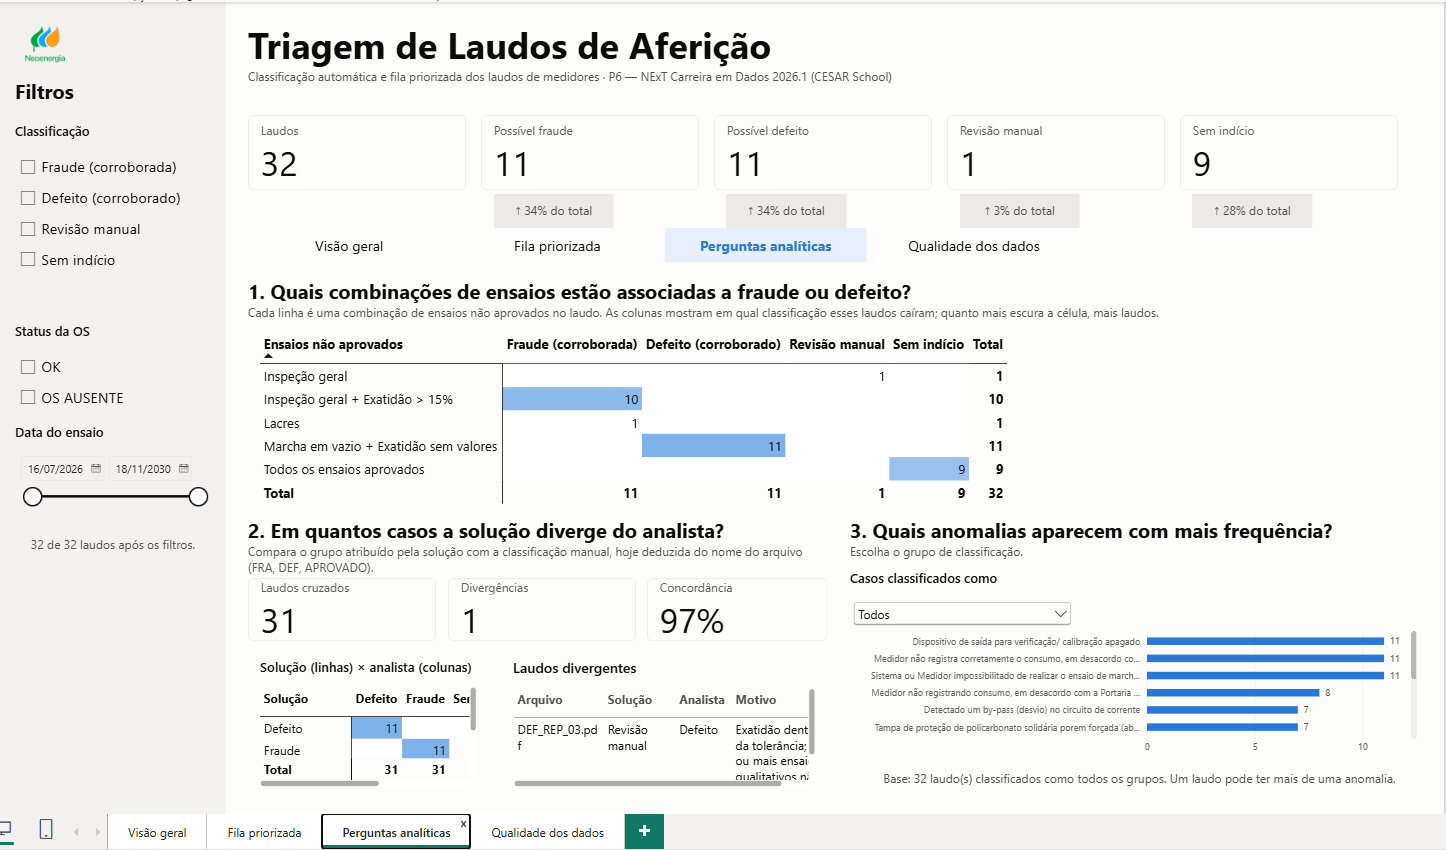

The page's visual inventory and layout, read from the dashboard file:
{"tool":"powerbi","page":{"name":"Perguntas analíticas","canvas":[1920,1080],"ordinal":2},"visuals":[{"type":"textbox","box":[0,0,300,1080],"z":0},{"type":"image","box":[24,20,72,72],"z":1000},{"type":"textbox","box":[20,100,260,50],"z":2000},{"type":"slicer","title":"Classificação","fields":{"Values":["public laudos.classificacao_curta"]},"box":[20,160,260,250],"z":3000},{"type":"slicer","title":"Status da OS","fields":{"Values":["public laudos.status_os"]},"box":[20,425,260,120],"z":4000},{"type":"slicer","title":"Data do ensaio","fields":{"Values":["public laudos.data_ensaio_dt"]},"box":[20,560,260,120],"z":5000},{"type":"card","fields":{"Values":["public laudos.Laudos filtrados"]},"box":[20,699.6,260.7,50.5],"z":6000},{"type":"textbox","box":[330,24,1570,120],"z":7000},{"type":"cardVisual","fields":{"Data":["public laudos.Total de laudos"]},"box":[330,150,290,100],"z":8000},{"type":"cardVisual","fields":{"Data":["public laudos.Laudos possível fraude"]},"box":[640,150,290,100],"z":9000},{"type":"card","fields":{"Values":["public laudos.Pill fraude"]},"box":[656.5,255.3,159,45.2],"z":10000},{"type":"cardVisual","fields":{"Data":["public laudos.Laudos possível defeito"]},"box":[950,150,290,100],"z":11000},{"type":"card","fields":{"Values":["public laudos.Pill defeito"]},"box":[965.8,255.3,160.5,45.2],"z":12000},{"type":"cardVisual","fields":{"Data":["public laudos.Laudos revisão manual"]},"box":[1260,150,290,100],"z":13000},{"type":"card","fields":{"Values":["public laudos.Pill revisão"]},"box":[1276.6,255.3,159,45.2],"z":14000},{"type":"cardVisual","fields":{"Data":["public laudos.Laudos sem indício"]},"box":[1570,150,290,100],"z":15000},{"type":"card","fields":{"Values":["public laudos.Pill sem indício"]},"box":[1585.9,255.3,160.5,45.2],"z":16000},{"type":"pageNavigator","box":[330,300,1100,46],"z":17000},{"type":"textbox","box":[329.7,366.2,1569.8,68.6],"z":18000},{"type":"pivotTable","fields":{"Columns":["public laudos.classificacao_curta"],"Rows":["public laudos.perfil_ensaios"],"Values":["public laudos.Laudos nº"]},"box":[329.7,424.6,1569.8,259.7],"z":19000},{"type":"textbox","box":[329.7,684.3,770.3,81.7],"z":20000},{"type":"cardVisual","fields":{"Data":["public laudos.Laudos cruzados"]},"box":[330,765.7,250,84.3],"z":21000},{"type":"cardVisual","fields":{"Data":["public laudos.Divergências"]},"box":[595.7,765.7,250,84.3],"z":22000},{"type":"cardVisual","fields":{"Data":["public laudos.Concordância"]},"box":[860,765.7,240,84.3],"z":23000},{"type":"pivotTable","title":"Solução (linhas) × analista (colunas)","fields":{"Columns":["public laudos.grupo_manual"],"Rows":["public laudos.grupo"],"Values":["public laudos.Laudos cruzados"]},"box":[330,858,320,202],"z":24000},{"type":"tableEx","title":"Laudos divergentes","fields":{"Values":["public laudos.arquivo","public laudos.classificacao_curta","public laudos.classificacao_manual","public laudos.motivo_classificacao"]},"box":[666,858,434,202],"z":25000},{"type":"textbox","box":[1130,684,770,66],"z":26000},{"type":"slicer","title":"Casos classificados como","fields":{"Values":["anomalias.grupo"]},"box":[1130.5,754.1,299.3,79.8],"z":27000},{"type":"barChart","fields":{"Category":["anomalias.anomalia"],"Y":["anomalias.Ocorrências"]},"box":[1130,814,770,206],"z":28000},{"type":"card","fields":{"Values":["public laudos.Base P3"]},"box":[1130.5,1010.8,770.1,49.2],"z":29000}]}

Visuals, with their boxes on the page's 1920x1080 design canvas (x1, y1, x2, y2). These are canvas units, not pixel positions in the 1446x850 screenshot, which may show the page scaled, cropped or inside an application window:
textbox: (0, 0, 300, 1080)
image: (24, 20, 96, 92)
textbox: (20, 100, 280, 150)
"Classificação" slicer: (20, 160, 280, 410)
"Status da OS" slicer: (20, 425, 280, 545)
"Data do ensaio" slicer: (20, 560, 280, 680)
card - public laudos.Laudos filtrados: (20, 700, 281, 750)
textbox: (330, 24, 1900, 144)
cardVisual - public laudos.Total de laudos: (330, 150, 620, 250)
cardVisual - public laudos.Laudos possível fraude: (640, 150, 930, 250)
card - public laudos.Pill fraude: (656, 255, 816, 300)
cardVisual - public laudos.Laudos possível defeito: (950, 150, 1240, 250)
card - public laudos.Pill defeito: (966, 255, 1126, 300)
cardVisual - public laudos.Laudos revisão manual: (1260, 150, 1550, 250)
card - public laudos.Pill revisão: (1277, 255, 1436, 300)
cardVisual - public laudos.Laudos sem indício: (1570, 150, 1860, 250)
card - public laudos.Pill sem indício: (1586, 255, 1746, 300)
pageNavigator: (330, 300, 1430, 346)
textbox: (330, 366, 1900, 435)
pivotTable - public laudos.classificacao_curta x public laudos.perfil_ensaios: (330, 425, 1900, 684)
textbox: (330, 684, 1100, 766)
cardVisual - public laudos.Laudos cruzados: (330, 766, 580, 850)
cardVisual - public laudos.Divergências: (596, 766, 846, 850)
cardVisual - public laudos.Concordância: (860, 766, 1100, 850)
"Solução (linhas) × analista (colunas)" pivotTable: (330, 858, 650, 1060)
"Laudos divergentes" tableEx: (666, 858, 1100, 1060)
textbox: (1130, 684, 1900, 750)
"Casos classificados como" slicer: (1130, 754, 1430, 834)
barChart - anomalias.anomalia x anomalias.Ocorrências: (1130, 814, 1900, 1020)
card - public laudos.Base P3: (1130, 1011, 1901, 1060)
